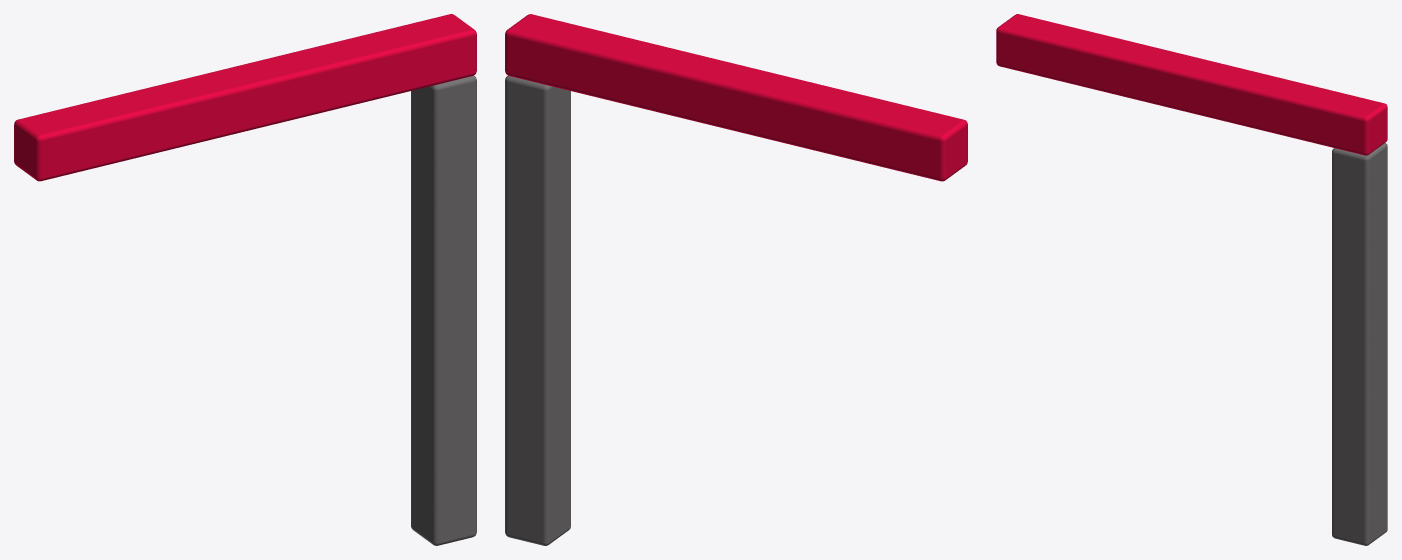
3 renders of one model, left to right at view 1: azimuth 30°, elevation 25°; view 2: azimuth 150°, elevation 25°; view 3: azimuth 330°, elevation 25°, orthographic. The views are drawn at different scales.
Visible parts, largest first — view 1: object_1, object_2; view 2: object_1, object_2; view 3: object_1, object_2.
Boxes of the visible parts, box(x1,y1,x2,y2) form: object_1: box(14, 14, 476, 181); object_2: box(411, 75, 476, 545); object_1: box(505, 14, 967, 181); object_2: box(505, 75, 570, 545); object_1: box(996, 14, 1387, 155); object_2: box(1332, 142, 1387, 545).
Bounding box in the file's own units: 100 × 110 × 10.01.
